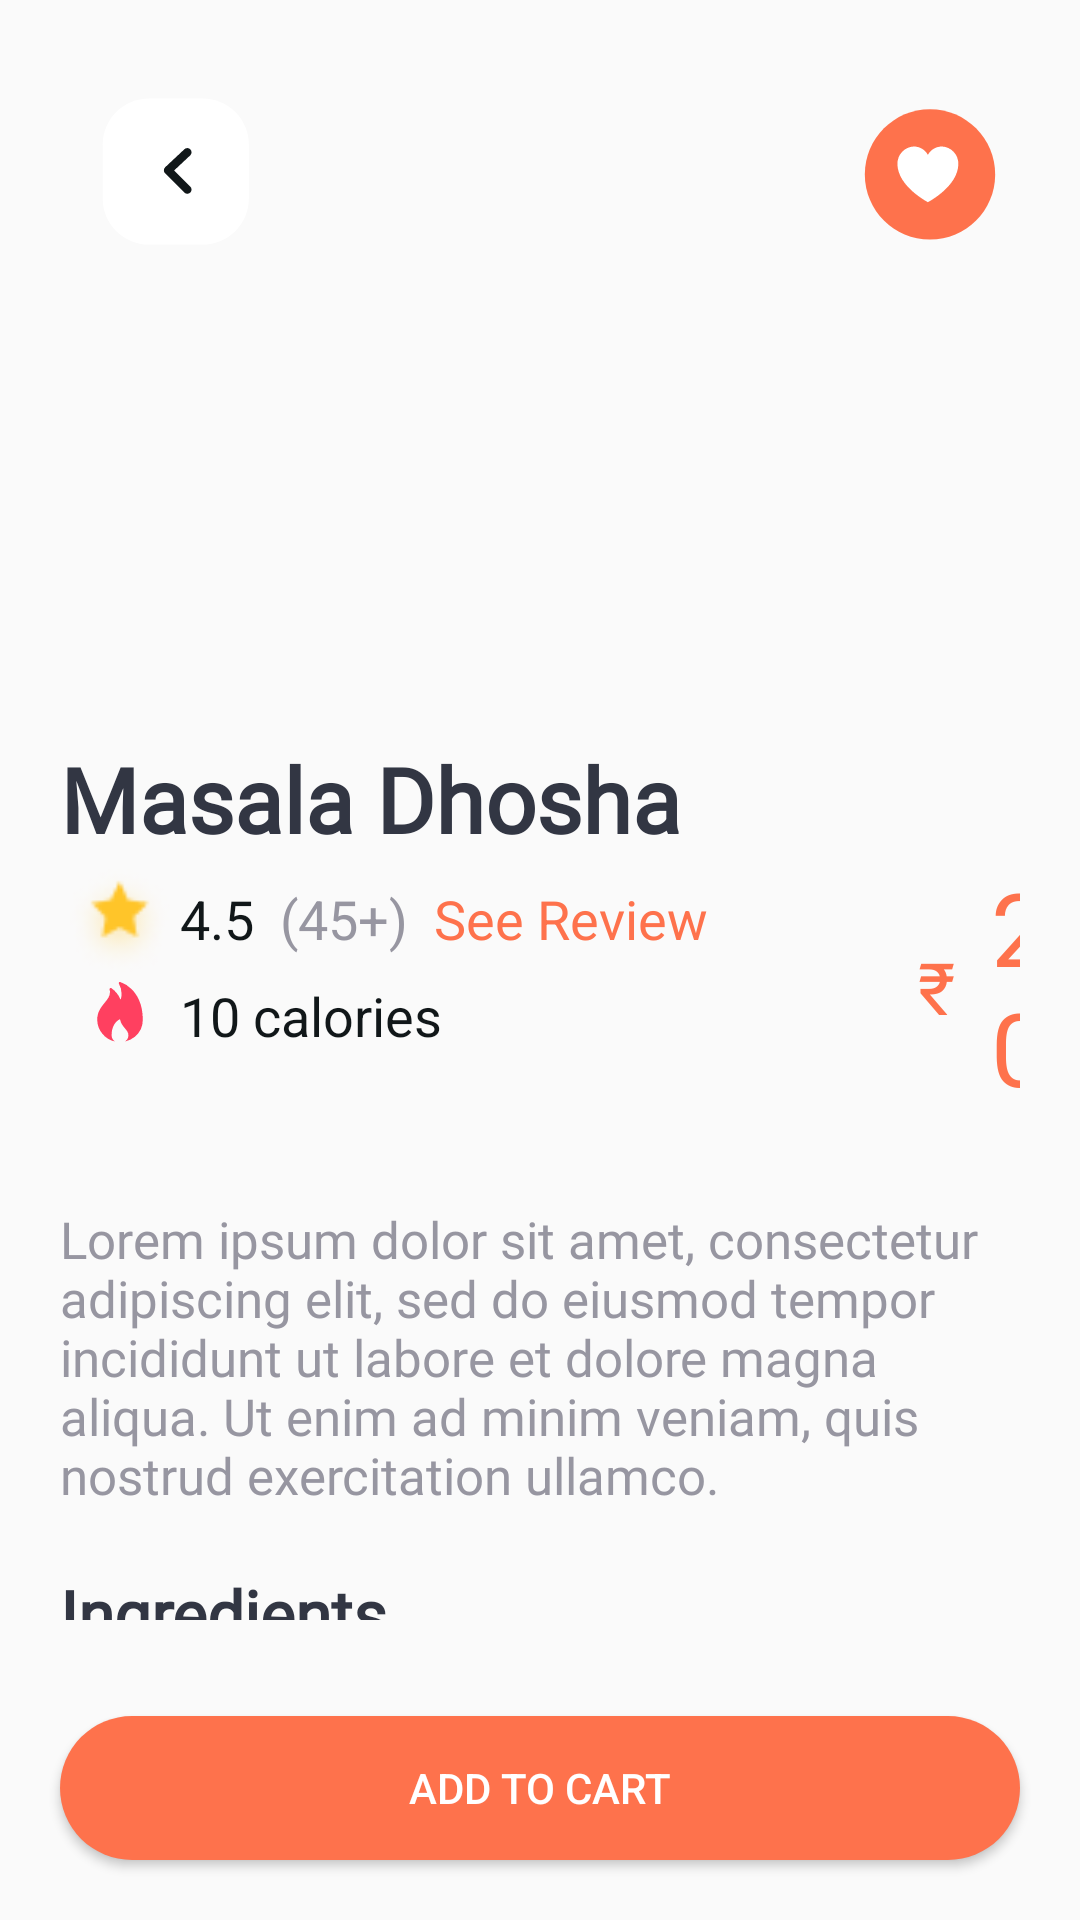

Screen size 1080 × 1920. Icon name, then its box in pixels as (x1, y1, x2, y2):
back: (164, 148, 192, 194)
favourite: (864, 109, 996, 240)
star: (91, 881, 149, 945)
